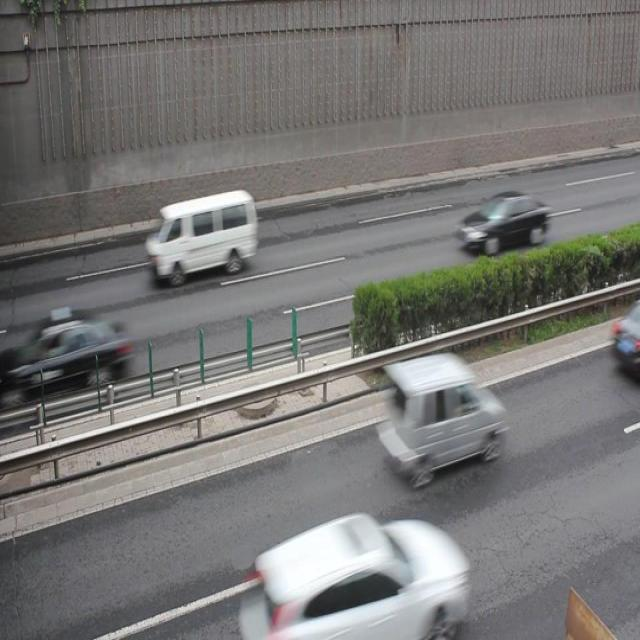car: (242, 512, 467, 640), (22, 306, 132, 399), (455, 189, 550, 255)
truck: (377, 350, 504, 481), (149, 189, 259, 284)
